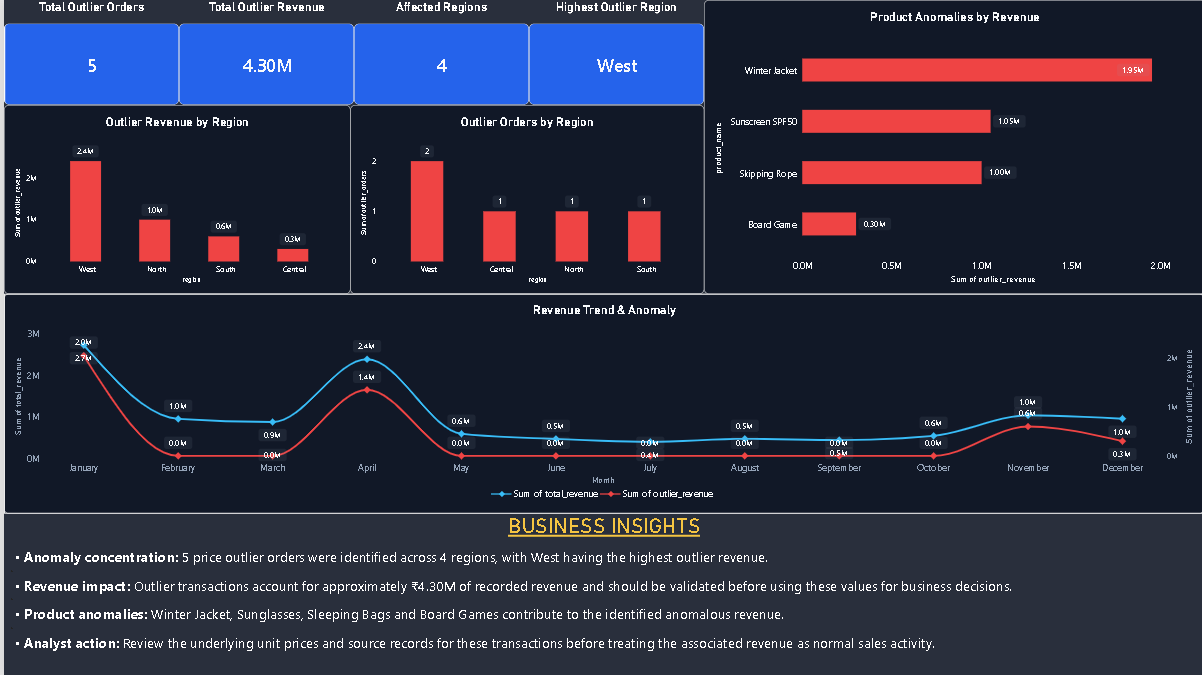

What the dashboard file says about the page in this screenshot:
{"tool":"powerbi","page":{"name":"Advanced Analytics & Anomaly Intelligence","canvas":[1920,1080],"ordinal":3},"visuals":[{"type":"cardVisual","title":"Total Outlier Orders","fields":{"Data":["Sum(public vw_anomaly_analysis.outlier_orders)"]},"box":[0,0,280,168],"z":0},{"type":"cardVisual","title":"Total Outlier Revenue","fields":{"Data":["Sum(public vw_anomaly_analysis.outlier_revenue)"]},"box":[280,0,280,168],"z":1},{"type":"cardVisual","title":"Affected Regions","fields":{"Data":["public vw_anomaly_analysis.Affected Regions"]},"box":[560,0,280,168],"z":2},{"type":"cardVisual","title":"Highest Outlier Region","fields":{"Data":["public vw_anomaly_analysis.Highest Risk Region"]},"box":[840,0,280,168],"z":3},{"type":"clusteredColumnChart","title":"Outlier Revenue by Region","fields":{"Category":["public vw_anomaly_analysis.region"],"Y":["Sum(public vw_anomaly_analysis.outlier_revenue)"]},"box":[0,168,554,302],"z":4},{"type":"clusteredColumnChart","title":"Outlier Orders by Region","fields":{"Category":["public vw_anomaly_analysis.region"],"Y":["Sum(public vw_anomaly_analysis.outlier_orders)"]},"box":[554,168,566,302],"z":5},{"type":"lineChart","title":"Revenue Trend & Anomaly","fields":{"Category":["public vw_monthly_revenue_anomaly.month.Variation.Date Hierarchy.Month"],"Y":["Sum(public vw_monthly_revenue_anomaly.total_revenue)"],"Y2":["Sum(public vw_monthly_revenue_anomaly.outlier_revenue)"]},"box":[0,470,1920,352],"z":6},{"type":"clusteredBarChart","title":"Product Anomalies by Revenue","fields":{"Category":["public vw_product_category_anomalies.product_name"],"Y":["Sum(public vw_product_category_anomalies.outlier_revenue)"]},"box":[1120,0,802,470],"z":7},{"type":"textbox","title":"BUSINESS INSIGHTS","box":[0,822,1920,258],"z":8}]}

Visuals, with their boxes in screenshot pixels (x1, y1, x2, y2), scaled from the page's 1920x1080 canvas onto the 1202x675 screenshot:
"Total Outlier Orders" cardVisual: {"x1": 0, "y1": 0, "x2": 175, "y2": 105}
"Total Outlier Revenue" cardVisual: {"x1": 175, "y1": 0, "x2": 351, "y2": 105}
"Affected Regions" cardVisual: {"x1": 351, "y1": 0, "x2": 526, "y2": 105}
"Highest Outlier Region" cardVisual: {"x1": 526, "y1": 0, "x2": 701, "y2": 105}
"Outlier Revenue by Region" clusteredColumnChart: {"x1": 0, "y1": 105, "x2": 347, "y2": 294}
"Outlier Orders by Region" clusteredColumnChart: {"x1": 347, "y1": 105, "x2": 701, "y2": 294}
"Revenue Trend & Anomaly" lineChart: {"x1": 0, "y1": 294, "x2": 1201, "y2": 514}
"Product Anomalies by Revenue" clusteredBarChart: {"x1": 701, "y1": 0, "x2": 1201, "y2": 294}
"BUSINESS INSIGHTS" textbox: {"x1": 0, "y1": 514, "x2": 1201, "y2": 674}
